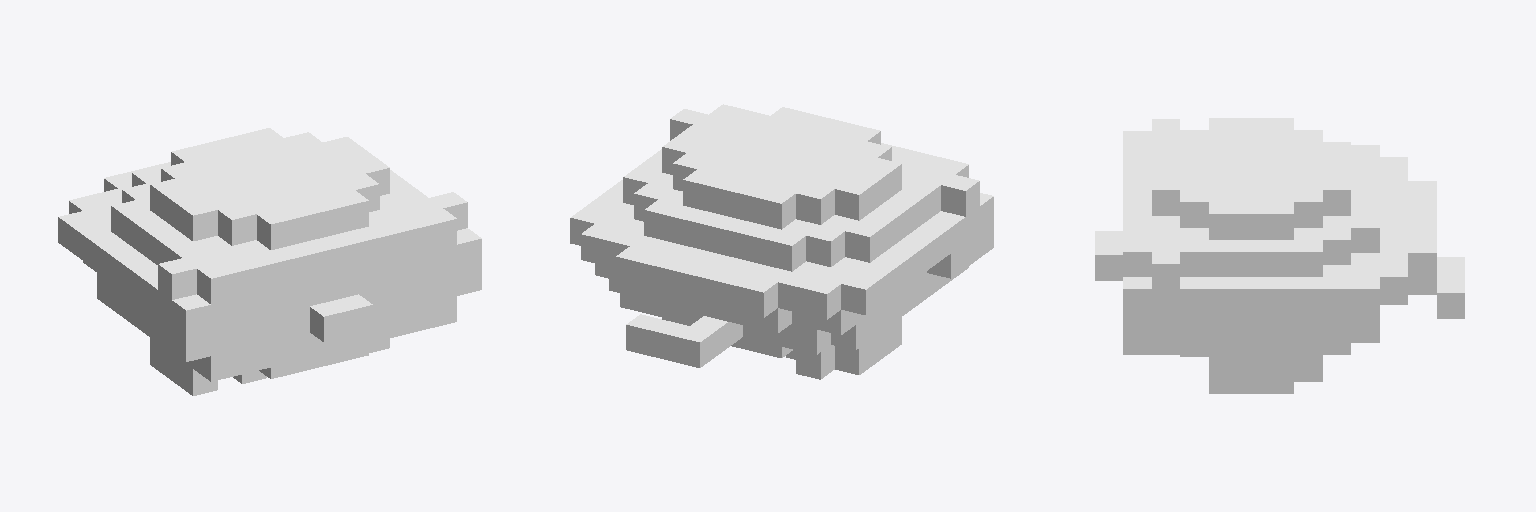
Rendered from PookaSquishCardinal.obj.
The picture shows the model from 3 angles: view 1: azimuth 30°, elevation 25°; view 2: azimuth 150°, elevation 25°; view 3: azimuth 270°, elevation 25°; orthographic projection.
Parts seen in each view (by area): view 1: object 1; view 2: object 1; view 3: object 1.
Part boxes in pixels (left/top/right/bottom): object 1: left=58, top=128, right=481, bottom=395; object 1: left=570, top=104, right=993, bottom=379; object 1: left=1095, top=118, right=1464, bottom=393.
Bounding box in the file's own units: 1.2 × 0.7 × 1.3.